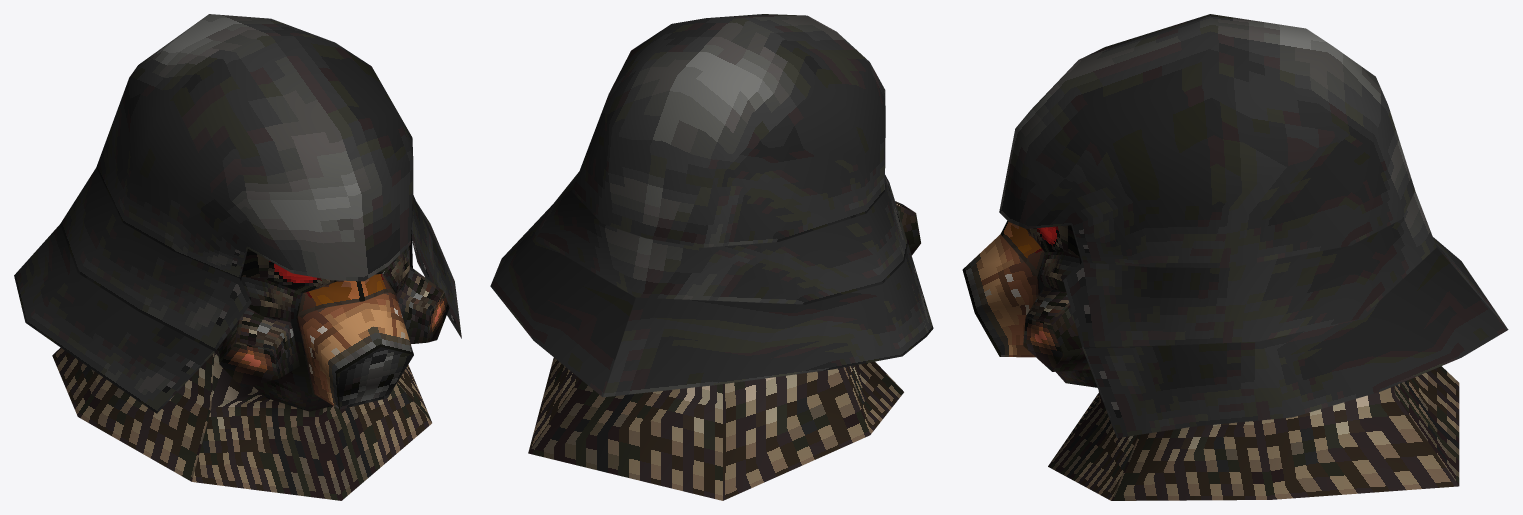
File: m_hair095.glb
The picture shows the model from 3 angles, left to right: view 1: azimuth 30°, elevation 25°; view 2: azimuth 150°, elevation 25°; view 3: azimuth 270°, elevation 25°; orthographic projection. The views are drawn at different scales.
Bounding box in the file's own units: 30.22 × 29.11 × 32.73.
Materials: 1 (1 with a texture image).
